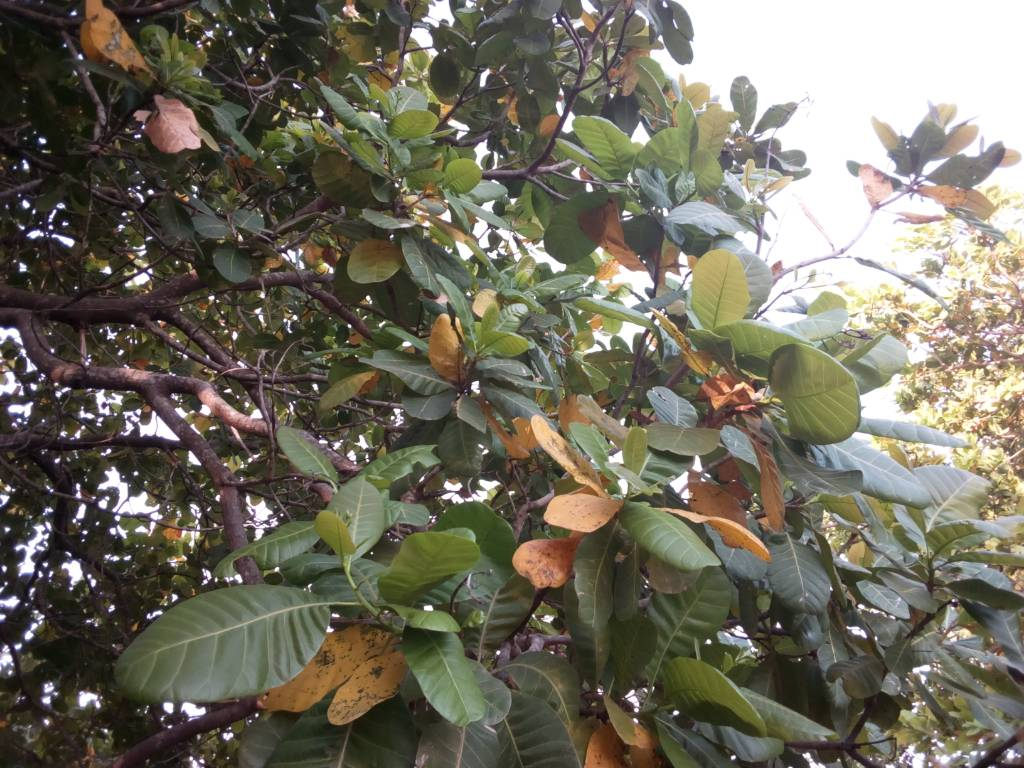Anthracnose: (263, 626, 410, 725), (508, 532, 581, 590)
